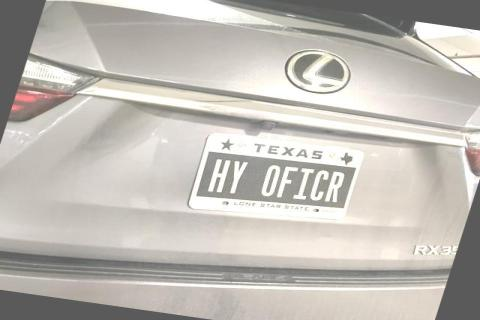LicensePlate: (185, 131, 364, 218)
